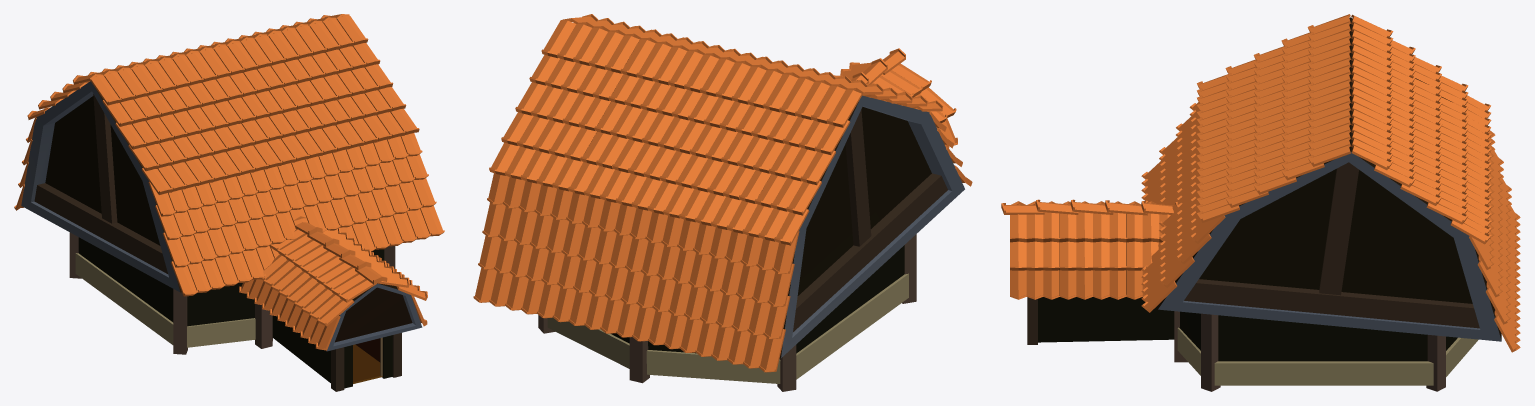
Rendered from SalaCarcaca.fbx.
3 renders of one model, left to right at view 1: azimuth 30°, elevation 25°; view 2: azimuth 150°, elevation 25°; view 3: azimuth 270°, elevation 25°, orthographic. The views are drawn at different scales.
Parts seen in each view (by area): view 1: LOD_0; view 2: LOD_0; view 3: LOD_0.
Boxes of the visible parts, x1=… form: LOD_0: x1=14, y1=14, x2=444, y2=391; LOD_0: x1=473, y1=14, x2=972, y2=391; LOD_0: x1=1001, y1=14, x2=1520, y2=391.
Size of what is drawn, in the model's own units: 1555 by 1380 by 2489.
